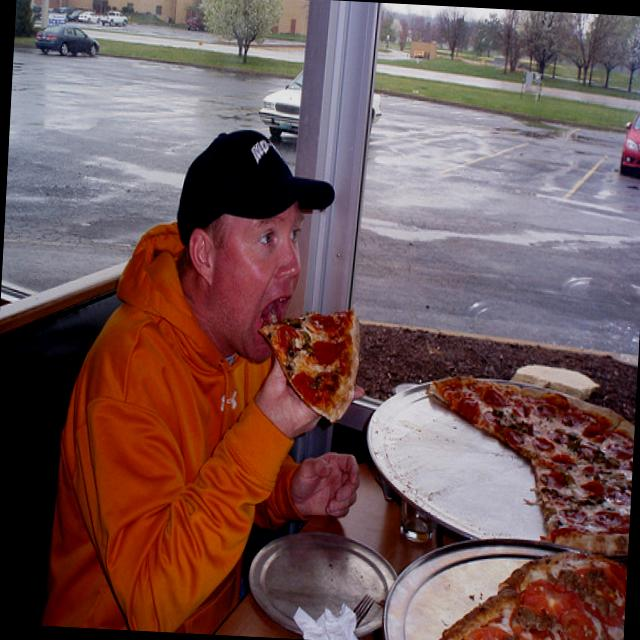Vehicle: (258, 70, 382, 142), (34, 23, 102, 58), (619, 106, 640, 177), (100, 10, 128, 28), (78, 10, 102, 25)
